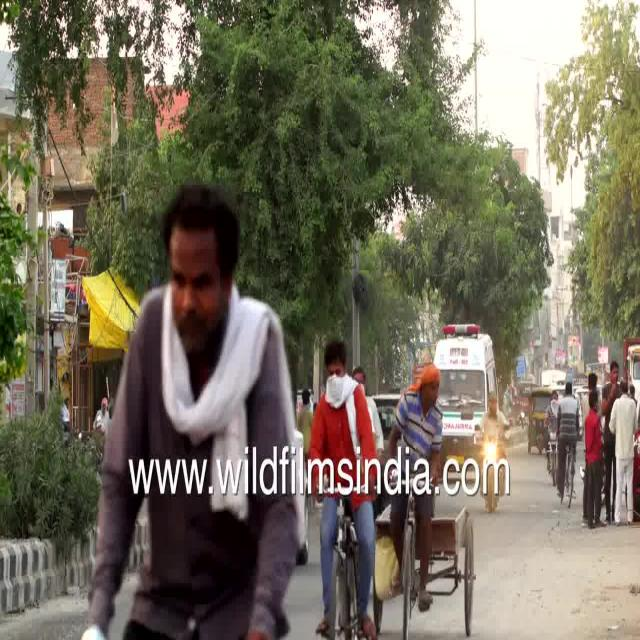ambulance: (433, 324, 500, 461)
